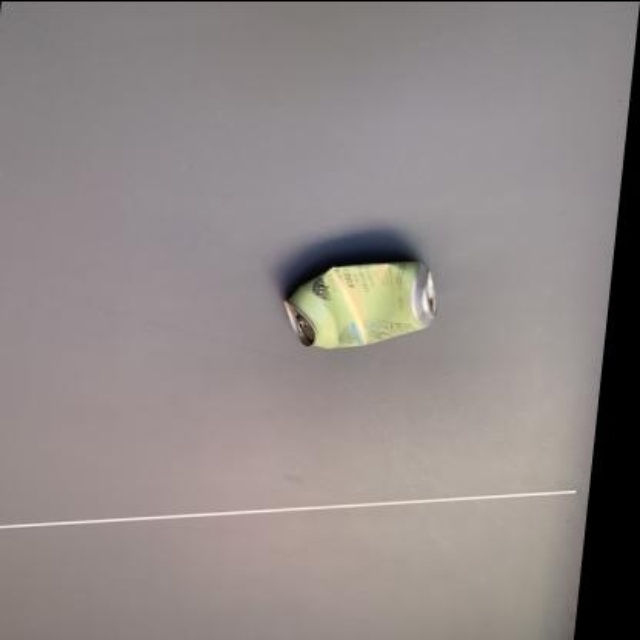trash: (285, 262, 435, 348)
